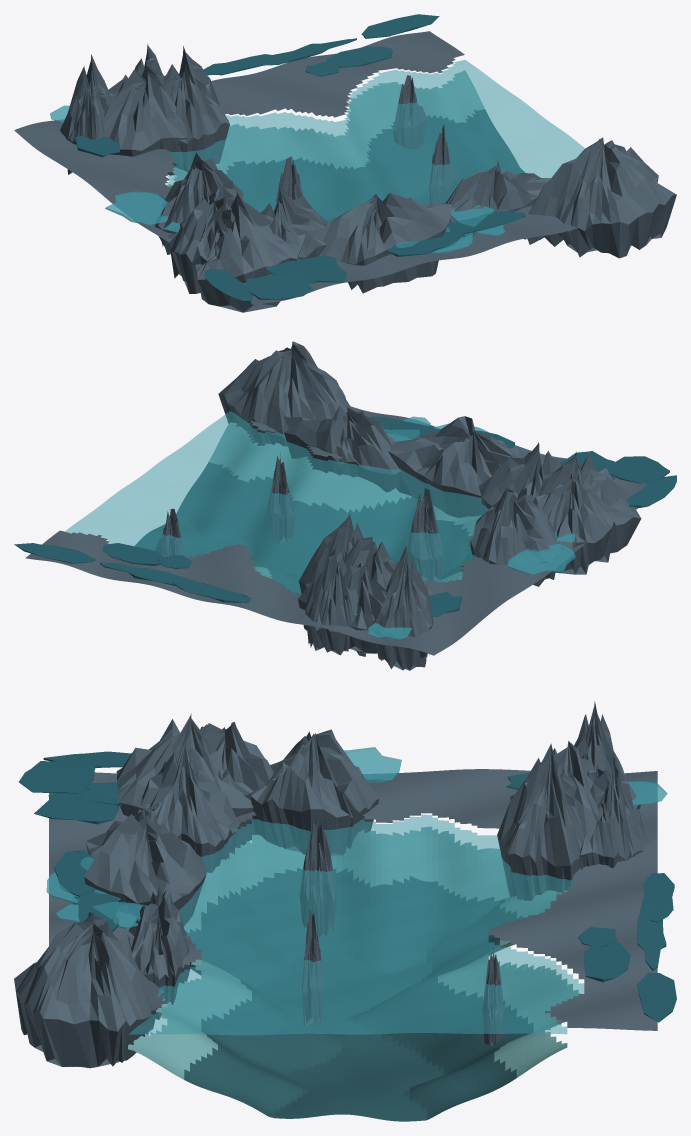
File: water_tile_02.glb
3 renders of one model, top to bottom at view 1: azimuth 30°, elevation 25°; view 2: azimuth 150°, elevation 25°; view 3: azimuth 270°, elevation 25°, orthographic. The views are drawn at different scales.
Parts seen in each view (by area): view 1: glacial water surface 02, single continuous dark slate shoreline.002, submerged mineral riverbed.002, angular fractured shoreline ledge.032, visible shallow mineral shelves.002, angular fractured shoreline ledge.033, angular fractured shoreline ledge.037, angular fractured shoreline ledge.030, angular fractured shoreline ledge.028, angular fractured shoreline ledge.034, angular fractured shoreline ledge.039, angular fractured shoreline ledge.038 (+18 smaller); view 2: glacial water surface 02, single continuous dark slate shoreline.002, submerged mineral riverbed.002, angular fractured shoreline ledge.032, angular fractured shoreline ledge.033, visible shallow mineral shelves.002, angular fractured shoreline ledge.034, angular fractured shoreline ledge.039, angular fractured shoreline ledge.038, angular fractured shoreline ledge.036, angular fractured shoreline ledge.029, angular fractured shoreline ledge.037 (+18 smaller); view 3: glacial water surface 02, submerged mineral riverbed.002, single continuous dark slate shoreline.002, visible shallow mineral shelves.002, angular fractured shoreline ledge.032, angular fractured shoreline ledge.038, angular fractured shoreline ledge.028, angular fractured shoreline ledge.033, angular fractured shoreline ledge.035, angular fractured shoreline ledge.037, angular fractured shoreline ledge.034, angular fractured shoreline ledge.039 (+20 smaller).
Part boxes in pixels (x1,y1,x2,y2): glacial water surface 02: [166, 60, 584, 223]; single continuous dark slate shoreline.002: [14, 31, 577, 304]; submerged mineral riverbed.002: [225, 109, 525, 223]; angular fractured shoreline ledge.032: [527, 137, 676, 258]; visible shallow mineral shelves.002: [168, 70, 484, 186]; angular fractured shoreline ledge.033: [312, 193, 451, 293]; angular fractured shoreline ledge.037: [195, 191, 305, 312]; angular fractured shoreline ledge.030: [104, 57, 197, 175]; angular fractured shoreline ledge.028: [162, 46, 229, 175]; angular fractured shoreline ledge.034: [445, 160, 550, 239]; angular fractured shoreline ledge.039: [168, 187, 234, 293]; angular fractured shoreline ledge.038: [155, 152, 243, 254]; glacial water surface 02: [65, 411, 488, 593]; single continuous dark slate shoreline.002: [25, 406, 647, 655]; submerged mineral riverbed.002: [135, 462, 472, 593]; angular fractured shoreline ledge.032: [218, 341, 350, 446]; angular fractured shoreline ledge.033: [388, 416, 525, 517]; visible shallow mineral shelves.002: [209, 422, 481, 582]; angular fractured shoreline ledge.034: [283, 405, 401, 492]; angular fractured shoreline ledge.039: [533, 466, 615, 574]; angular fractured shoreline ledge.038: [470, 488, 561, 586]; angular fractured shoreline ledge.036: [373, 545, 433, 670]; angular fractured shoreline ledge.029: [305, 546, 365, 656]; angular fractured shoreline ledge.037: [532, 451, 641, 553]; glacial water surface 02: [129, 814, 584, 1035]; submerged mineral riverbed.002: [184, 868, 533, 1121]; single continuous dark slate shoreline.002: [49, 769, 657, 1030]; visible shallow mineral shelves.002: [128, 826, 578, 1079]; angular fractured shoreline ledge.032: [14, 912, 164, 1068]; angular fractured shoreline ledge.038: [250, 729, 379, 855]; angular fractured shoreline ledge.028: [497, 743, 584, 900]; angular fractured shoreline ledge.033: [84, 808, 206, 926]; angular fractured shoreline ledge.035: [134, 742, 239, 872]; angular fractured shoreline ledge.037: [116, 713, 253, 858]; angular fractured shoreline ledge.034: [127, 886, 192, 1019]; angular fractured shoreline ledge.039: [202, 722, 274, 840].
Bounding box in the file's own units: 1.09 × 0.3698 × 1.09.
